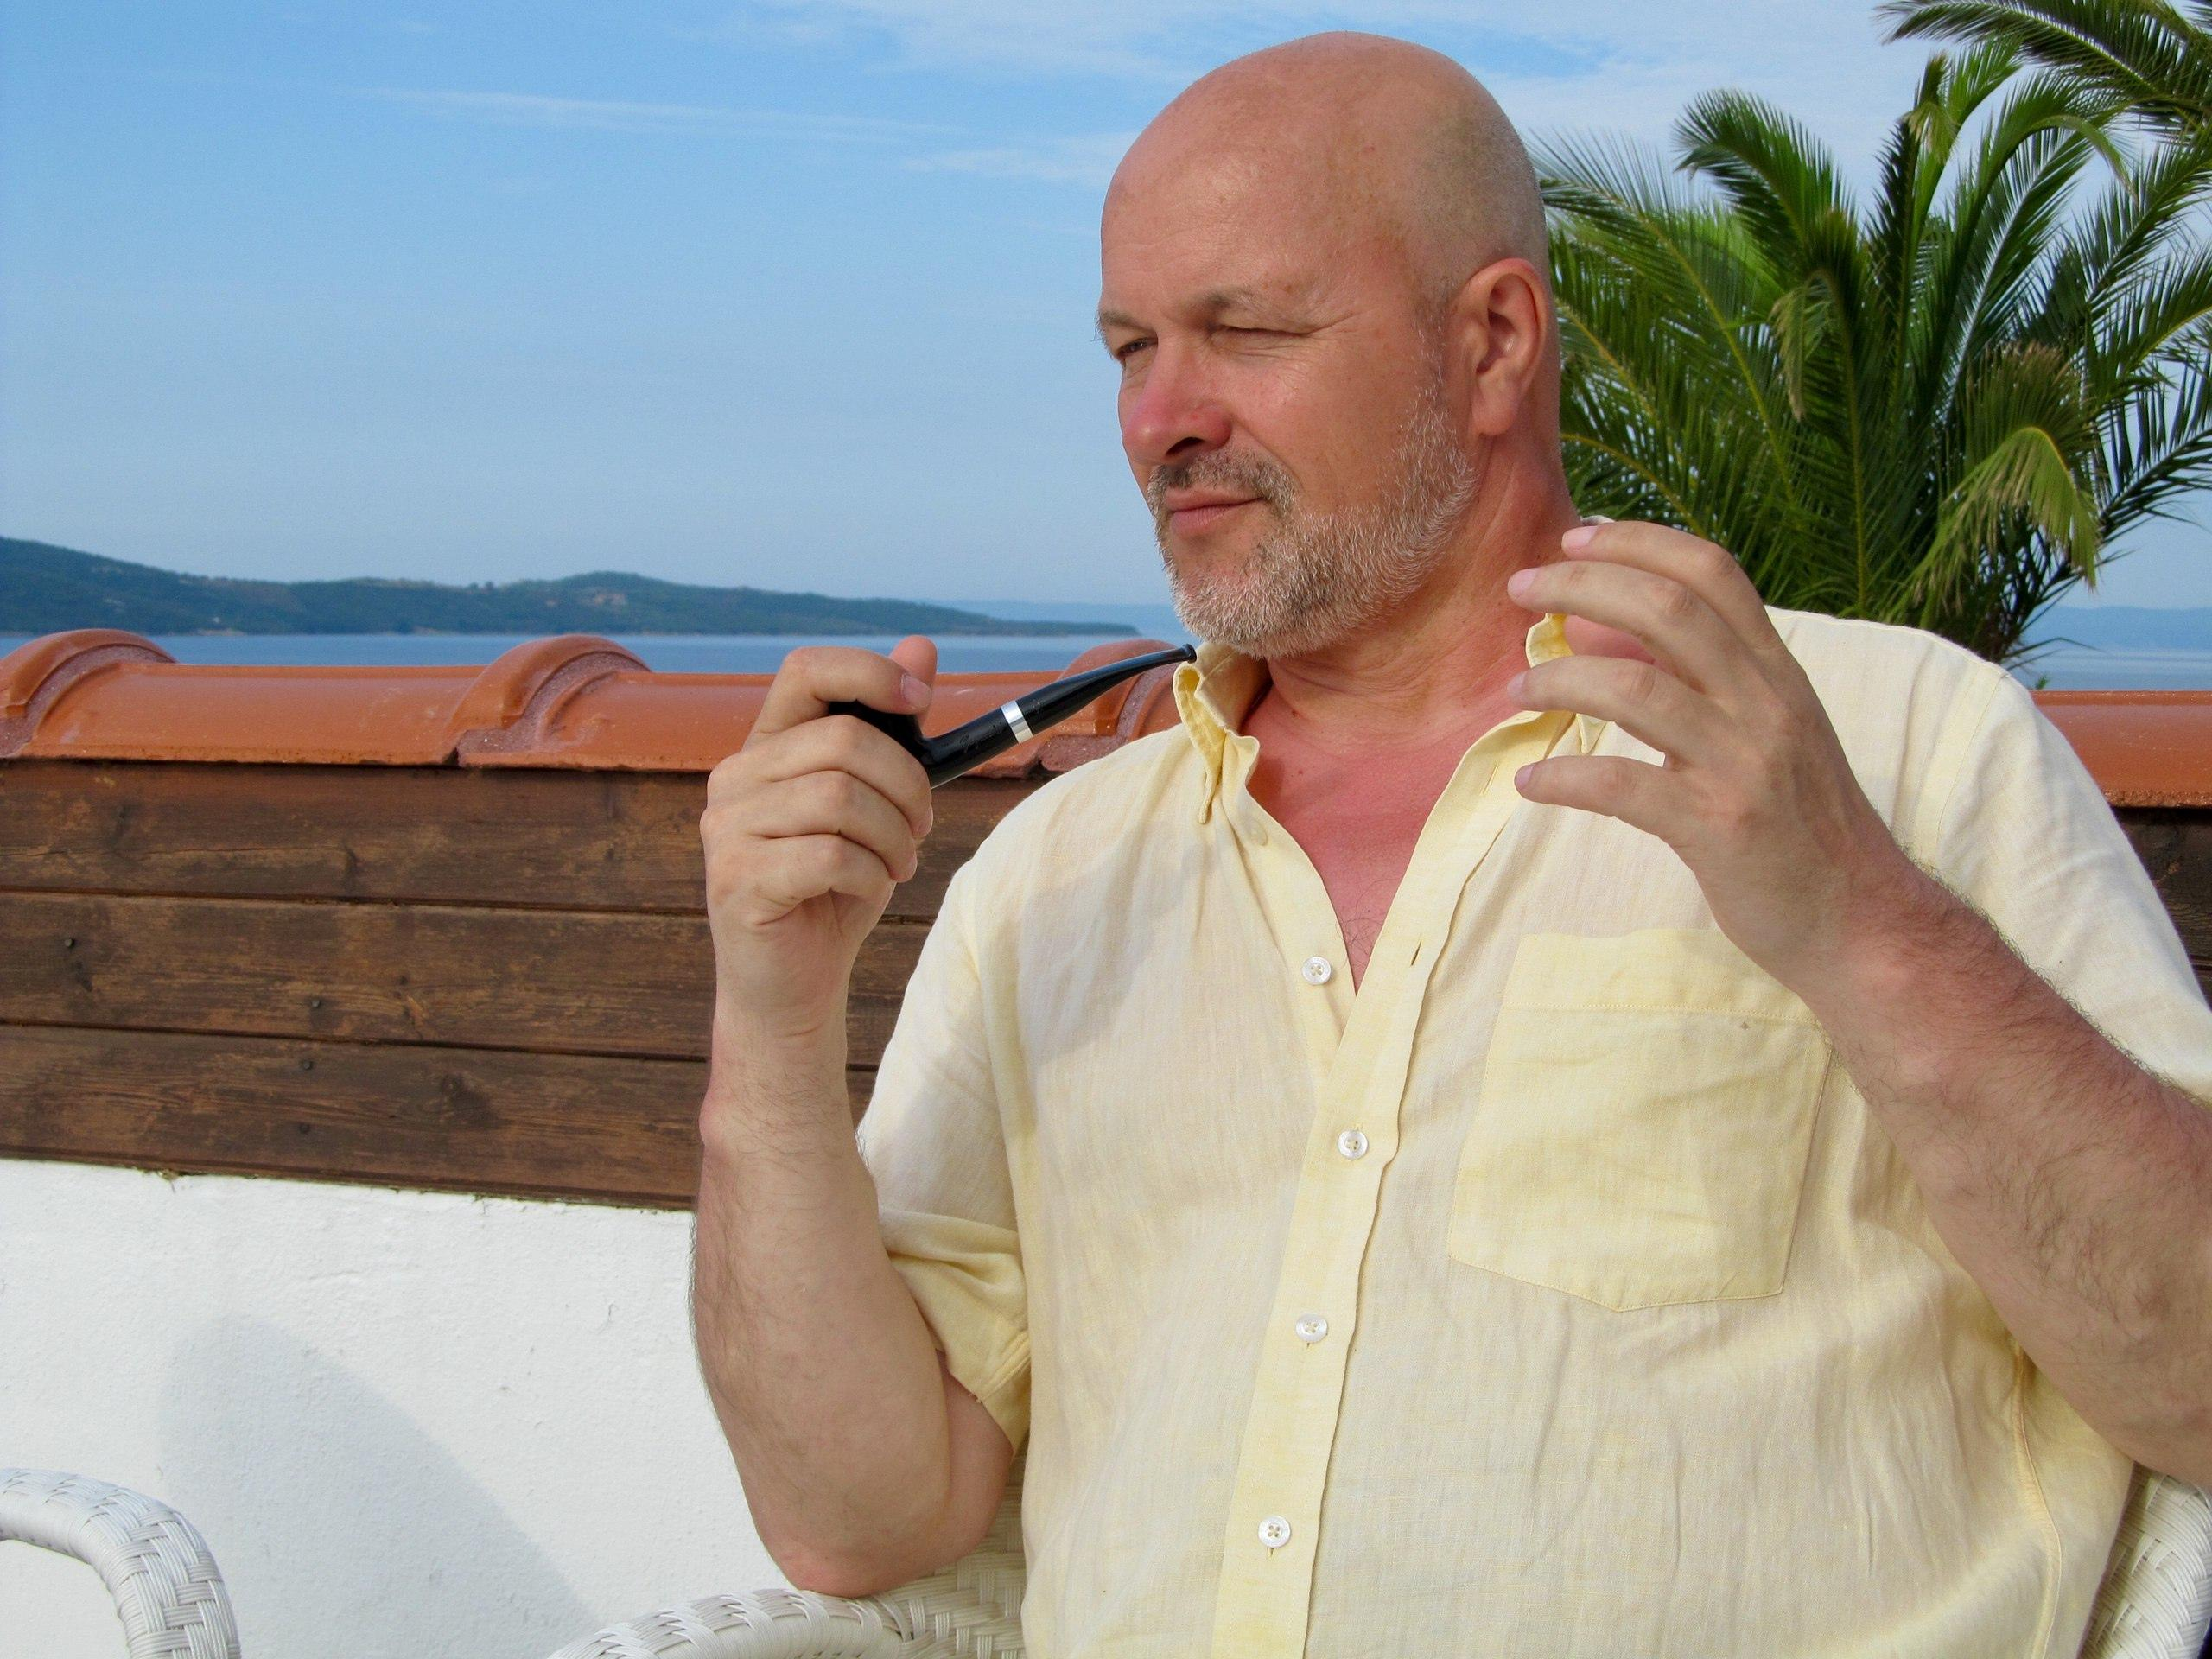trubka: (827, 643, 1197, 786)
